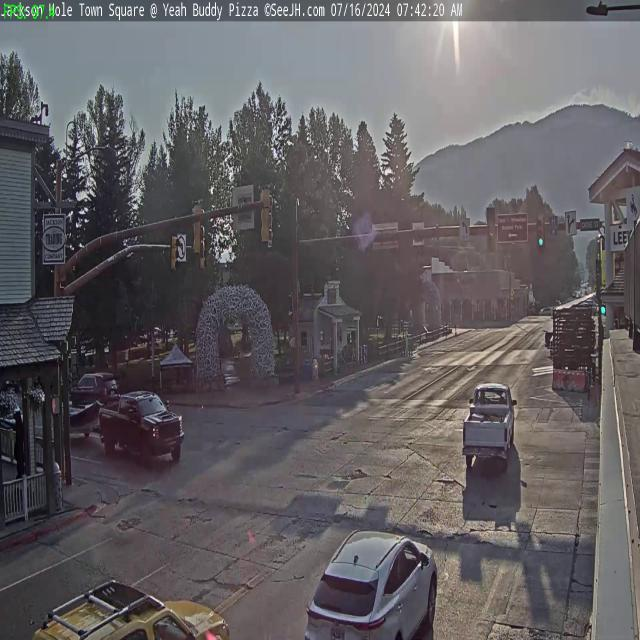pickup: (98, 388, 184, 464), (462, 377, 516, 470)
suv: (300, 526, 437, 640), (25, 574, 236, 640), (69, 370, 119, 415)
traffic light: (260, 185, 272, 244), (191, 199, 203, 254), (486, 208, 496, 252), (170, 235, 179, 272), (537, 214, 545, 248)
